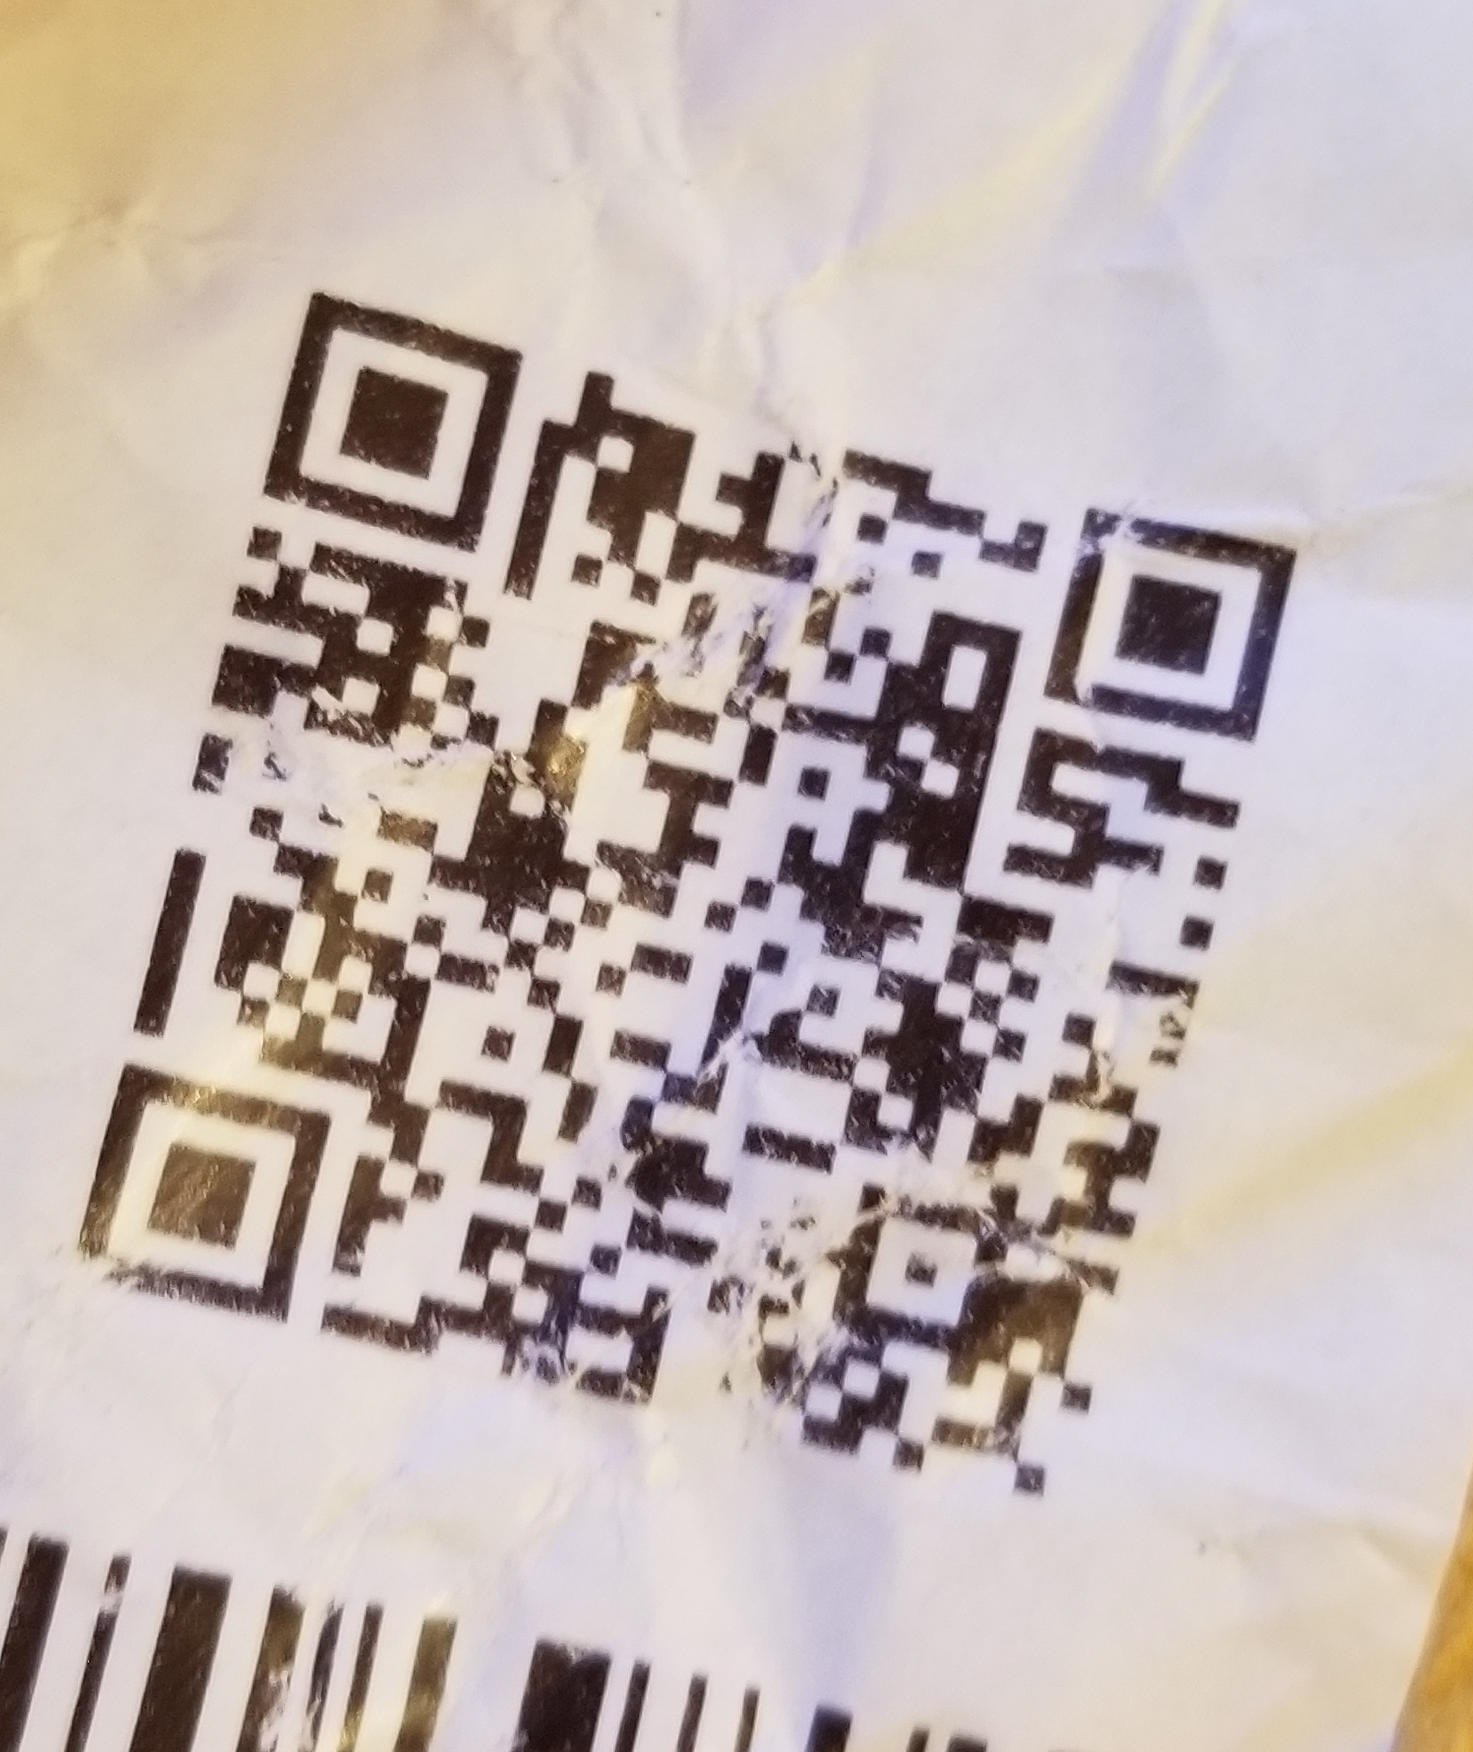QR_CODE: (45, 251, 1318, 1530)
